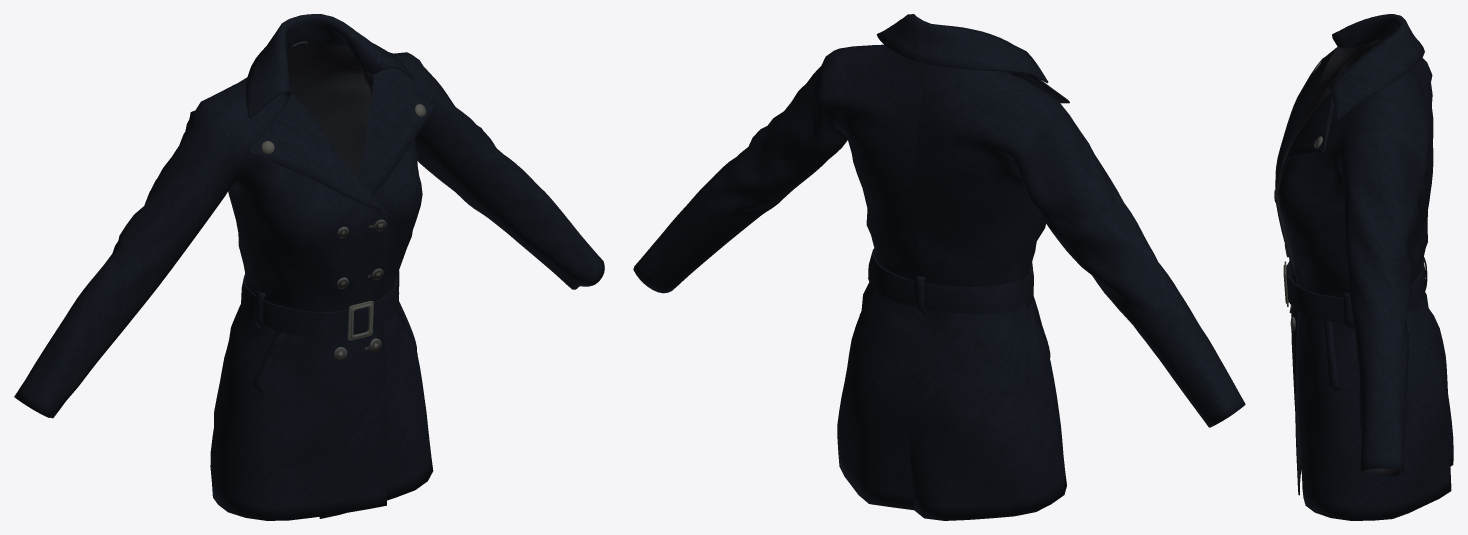
Rendered from female_overcoat.glb.
The picture shows the model from 3 angles, left to right: view 1: azimuth 30°, elevation 25°; view 2: azimuth 150°, elevation 25°; view 3: azimuth 270°, elevation 25°; orthographic projection. The views are drawn at different scales.
Parts seen in each view (by area): view 1: Jacket3_low.001, Belt_low.001, Details_low.001, Buttons_low.001; view 2: Jacket3_low.001, Belt_low.001, Details_low.001; view 3: Jacket3_low.001, Belt_low.001, Details_low.001, Buttons_low.001.
Boxes of the visible parts, box(x1,y1,x2,y2) form: Jacket3_low.001: box(14, 14, 604, 520); Belt_low.001: box(241, 273, 399, 338); Details_low.001: box(251, 271, 417, 393); Buttons_low.001: box(261, 104, 426, 360); Jacket3_low.001: box(633, 14, 1245, 520); Belt_low.001: box(868, 248, 1033, 313); Details_low.001: box(914, 266, 1050, 359); Jacket3_low.001: box(1275, 14, 1453, 520); Belt_low.001: box(1286, 260, 1425, 322); Details_low.001: box(1322, 257, 1427, 390); Buttons_low.001: box(1274, 62, 1322, 330).
Size of the model in its own units: 1.05 by 0.7968 by 0.2835.
1 material, 1 textured.
